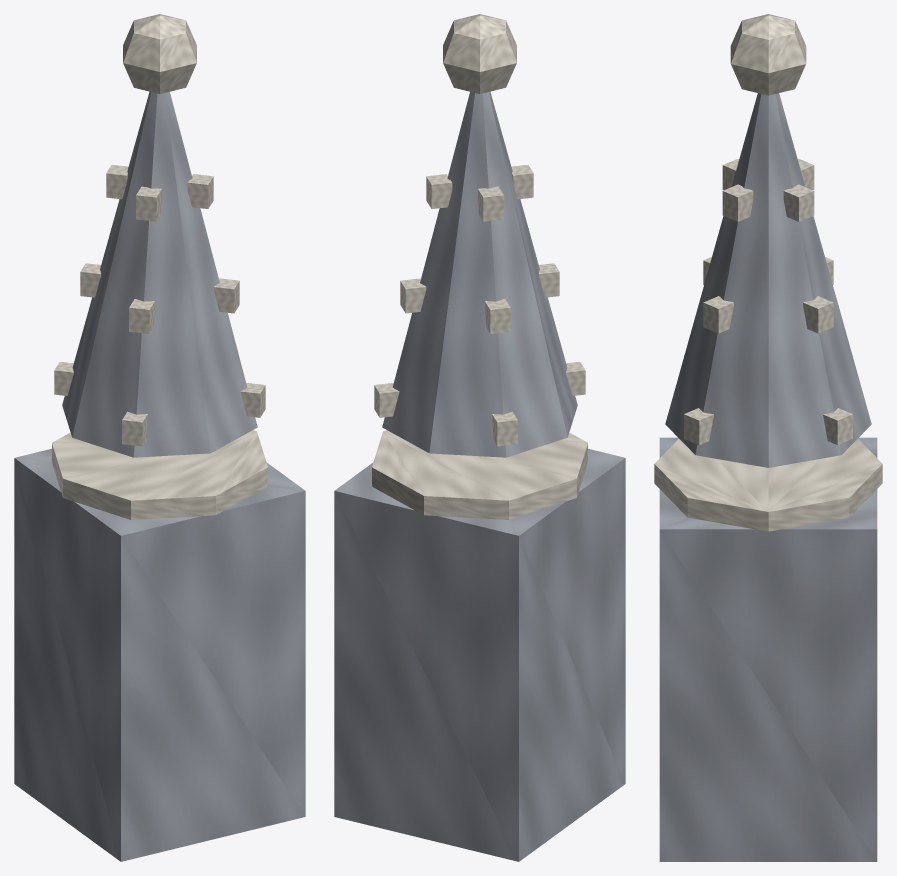
Rendered from vampire-crypt-and-gothic-cathedral-pinnacle-633e57a1__22964.glb.
3 renders of one model, left to right at view 1: azimuth 30°, elevation 25°; view 2: azimuth 150°, elevation 25°; view 3: azimuth 270°, elevation 25°, orthographic.
Visible parts, largest first — view 1: pinnacle; view 2: pinnacle; view 3: pinnacle.
Boxes of the visible parts, box(x1,y1,x2,y2) form: pinnacle: box(14, 14, 305, 861); pinnacle: box(334, 14, 625, 861); pinnacle: box(654, 14, 882, 861).
Bounding box in the file's own units: 0.8399 × 3.25 × 0.8399.
Materials: 2 (2 with a texture image).
